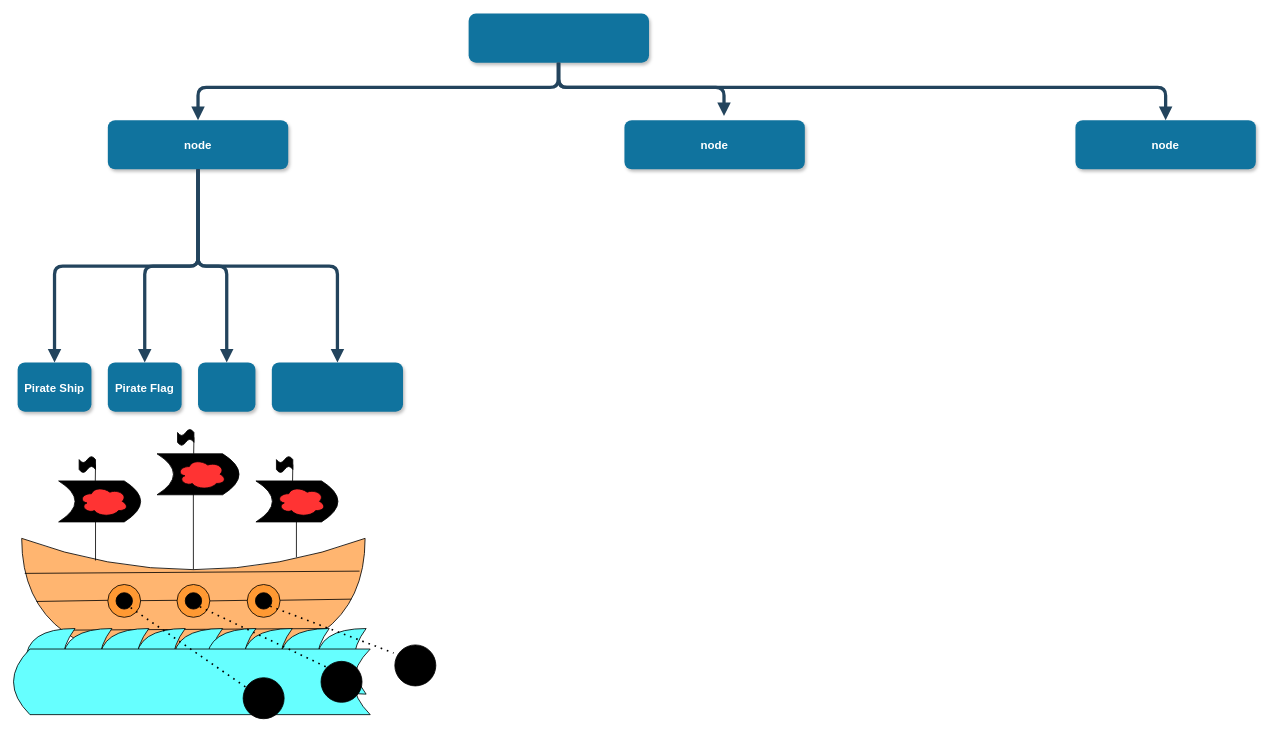
This 1269x732 diagram has some shape labels left out. Each missing label, with the centre of its shape:
Cannon / Cannonball: [338,388]
rootNode: [559,39]
Waves: [227,388]
